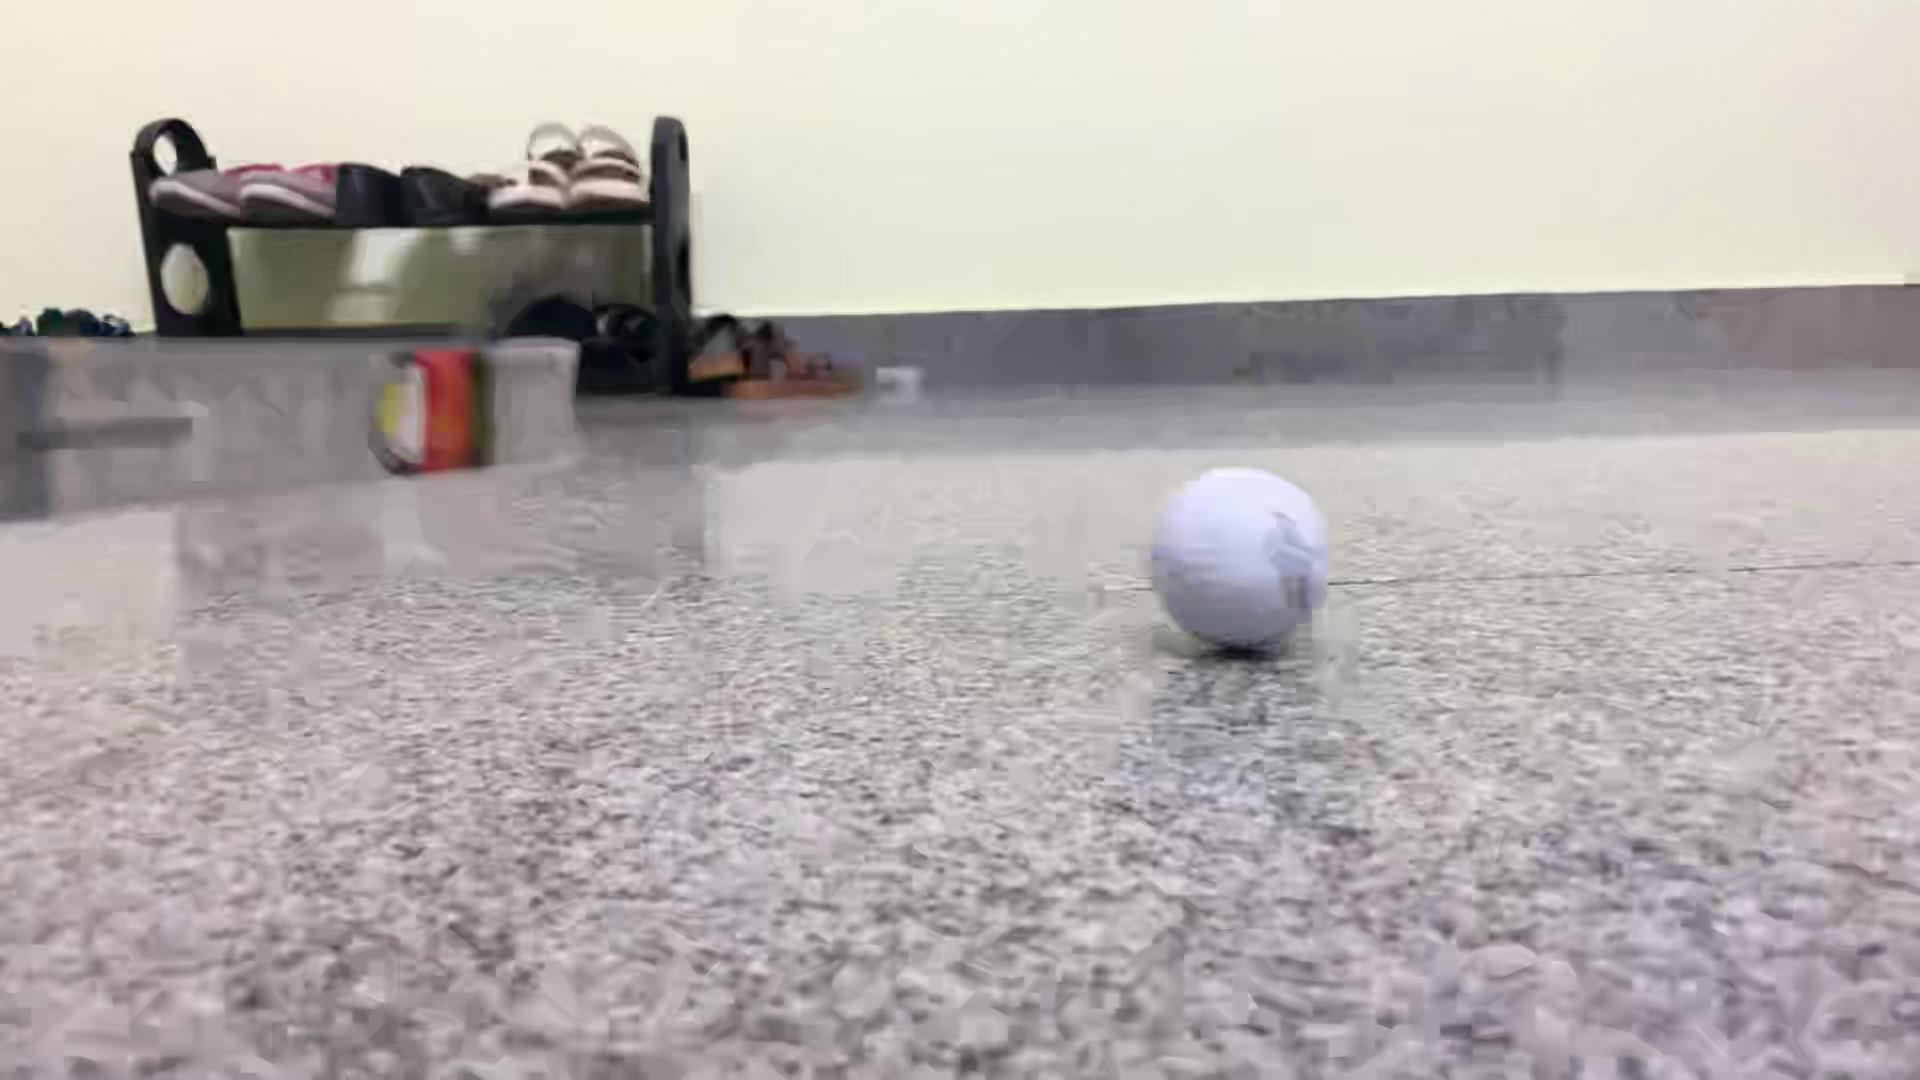golfball: (1149, 467, 1329, 650)
